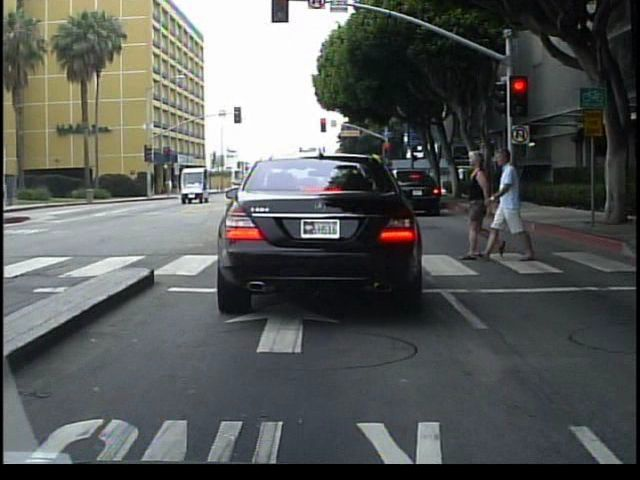person: (490, 139, 533, 262), (456, 147, 500, 262)
